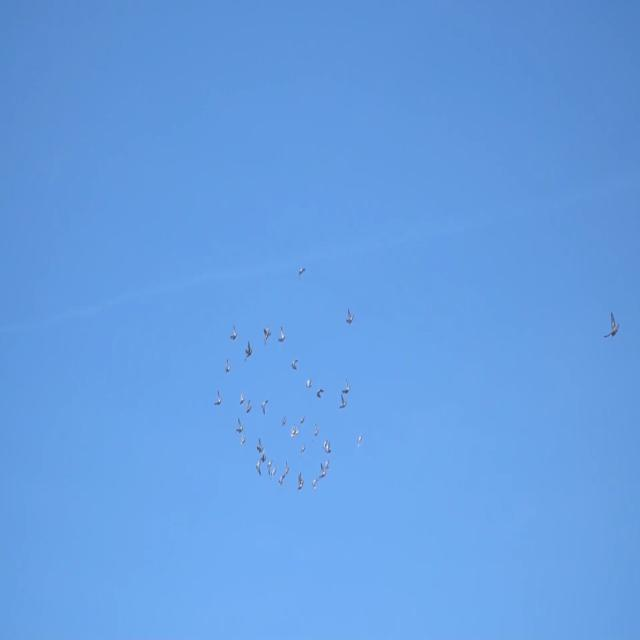bird: (603, 309, 621, 342), (262, 323, 271, 348), (288, 423, 300, 441), (345, 307, 355, 326), (228, 324, 238, 343), (212, 390, 222, 409), (338, 393, 347, 411), (317, 463, 326, 481), (259, 398, 269, 414), (323, 440, 332, 457), (244, 343, 252, 362), (341, 379, 351, 394), (277, 326, 285, 344), (223, 357, 231, 375), (256, 436, 264, 454), (235, 418, 244, 433), (297, 471, 304, 490), (355, 432, 363, 448), (291, 354, 298, 372), (245, 400, 252, 416), (283, 459, 290, 475), (271, 464, 277, 482), (300, 439, 306, 456), (305, 376, 312, 390), (260, 450, 267, 464), (324, 458, 331, 472), (267, 460, 273, 476), (278, 473, 286, 485), (256, 458, 261, 476), (298, 266, 306, 277), (316, 387, 324, 398), (312, 421, 318, 435), (312, 478, 318, 491), (281, 415, 287, 426), (240, 392, 244, 405), (300, 415, 304, 426), (241, 434, 245, 444)
